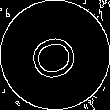O_E: (24, 26, 86, 84)
